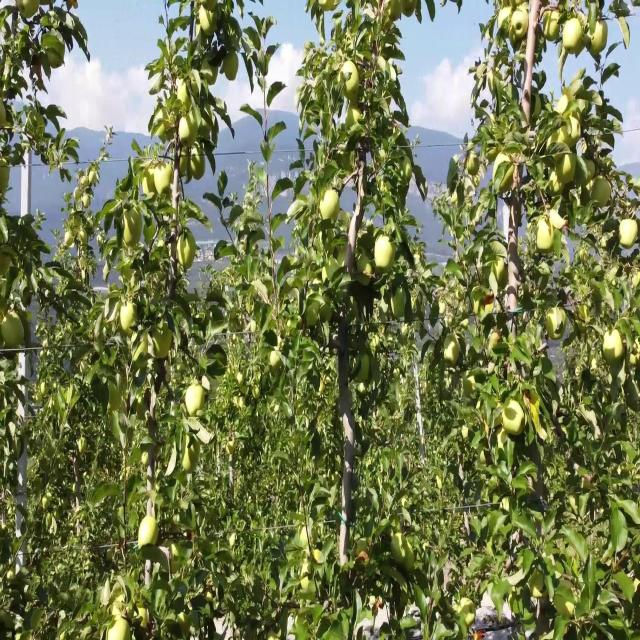apple: (184, 383, 207, 420), (376, 234, 396, 276), (124, 206, 144, 247), (504, 398, 525, 437), (176, 234, 197, 270), (152, 327, 174, 361), (340, 63, 360, 100), (4, 312, 23, 350), (564, 21, 584, 57), (604, 327, 624, 363), (548, 305, 568, 341), (180, 440, 200, 475), (180, 113, 199, 149), (556, 156, 578, 187), (524, 391, 541, 430), (320, 191, 339, 224), (592, 177, 612, 208), (588, 21, 604, 59), (200, 7, 220, 37), (120, 305, 139, 336), (620, 220, 640, 249), (140, 519, 160, 548), (512, 7, 529, 41), (564, 115, 581, 149), (224, 49, 240, 85), (192, 149, 208, 185), (536, 220, 553, 252), (592, 21, 608, 55), (48, 42, 66, 71), (544, 14, 561, 43), (444, 341, 460, 370), (460, 597, 476, 626), (108, 618, 129, 639), (108, 611, 128, 633), (392, 291, 407, 320), (492, 263, 508, 290), (20, 0, 40, 21), (500, 7, 512, 41), (360, 255, 374, 284), (136, 341, 149, 372), (552, 127, 566, 155), (204, 63, 220, 87), (124, 227, 143, 247), (552, 170, 566, 197), (180, 85, 193, 114), (180, 149, 191, 183), (156, 170, 171, 194), (348, 106, 363, 130), (628, 341, 640, 370), (320, 298, 333, 324), (108, 604, 123, 626), (144, 170, 156, 197), (136, 604, 150, 626), (608, 362, 623, 382), (360, 355, 371, 382), (532, 575, 545, 597), (384, 7, 401, 23), (464, 376, 476, 398), (468, 156, 480, 178), (136, 398, 147, 421), (308, 305, 319, 327), (556, 127, 567, 149), (584, 163, 596, 183), (512, 28, 522, 50), (324, 0, 339, 14), (580, 305, 591, 324), (4, 163, 11, 192), (80, 227, 89, 249), (404, 7, 416, 21), (24, 327, 32, 348), (488, 149, 499, 164), (492, 334, 503, 348), (0, 106, 7, 128), (356, 554, 371, 564), (68, 234, 76, 249), (228, 440, 236, 455), (84, 199, 91, 208)
